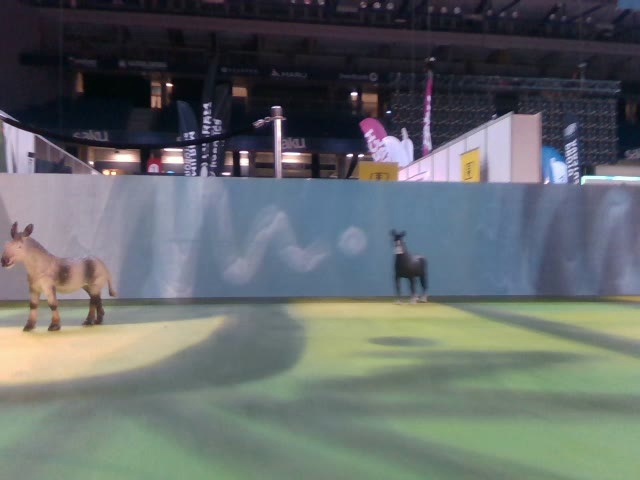toy: (1, 220, 118, 331), (388, 228, 430, 306)
